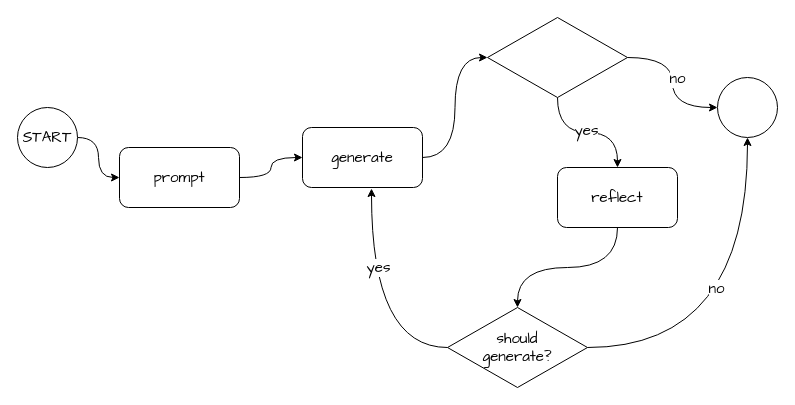
Some shapes in this 795 by 405 pixel diagram are drawn without their labels. Each missing label, with the centre of its shape:
END: the point at 747,107
should reflect?: the point at 557,57
